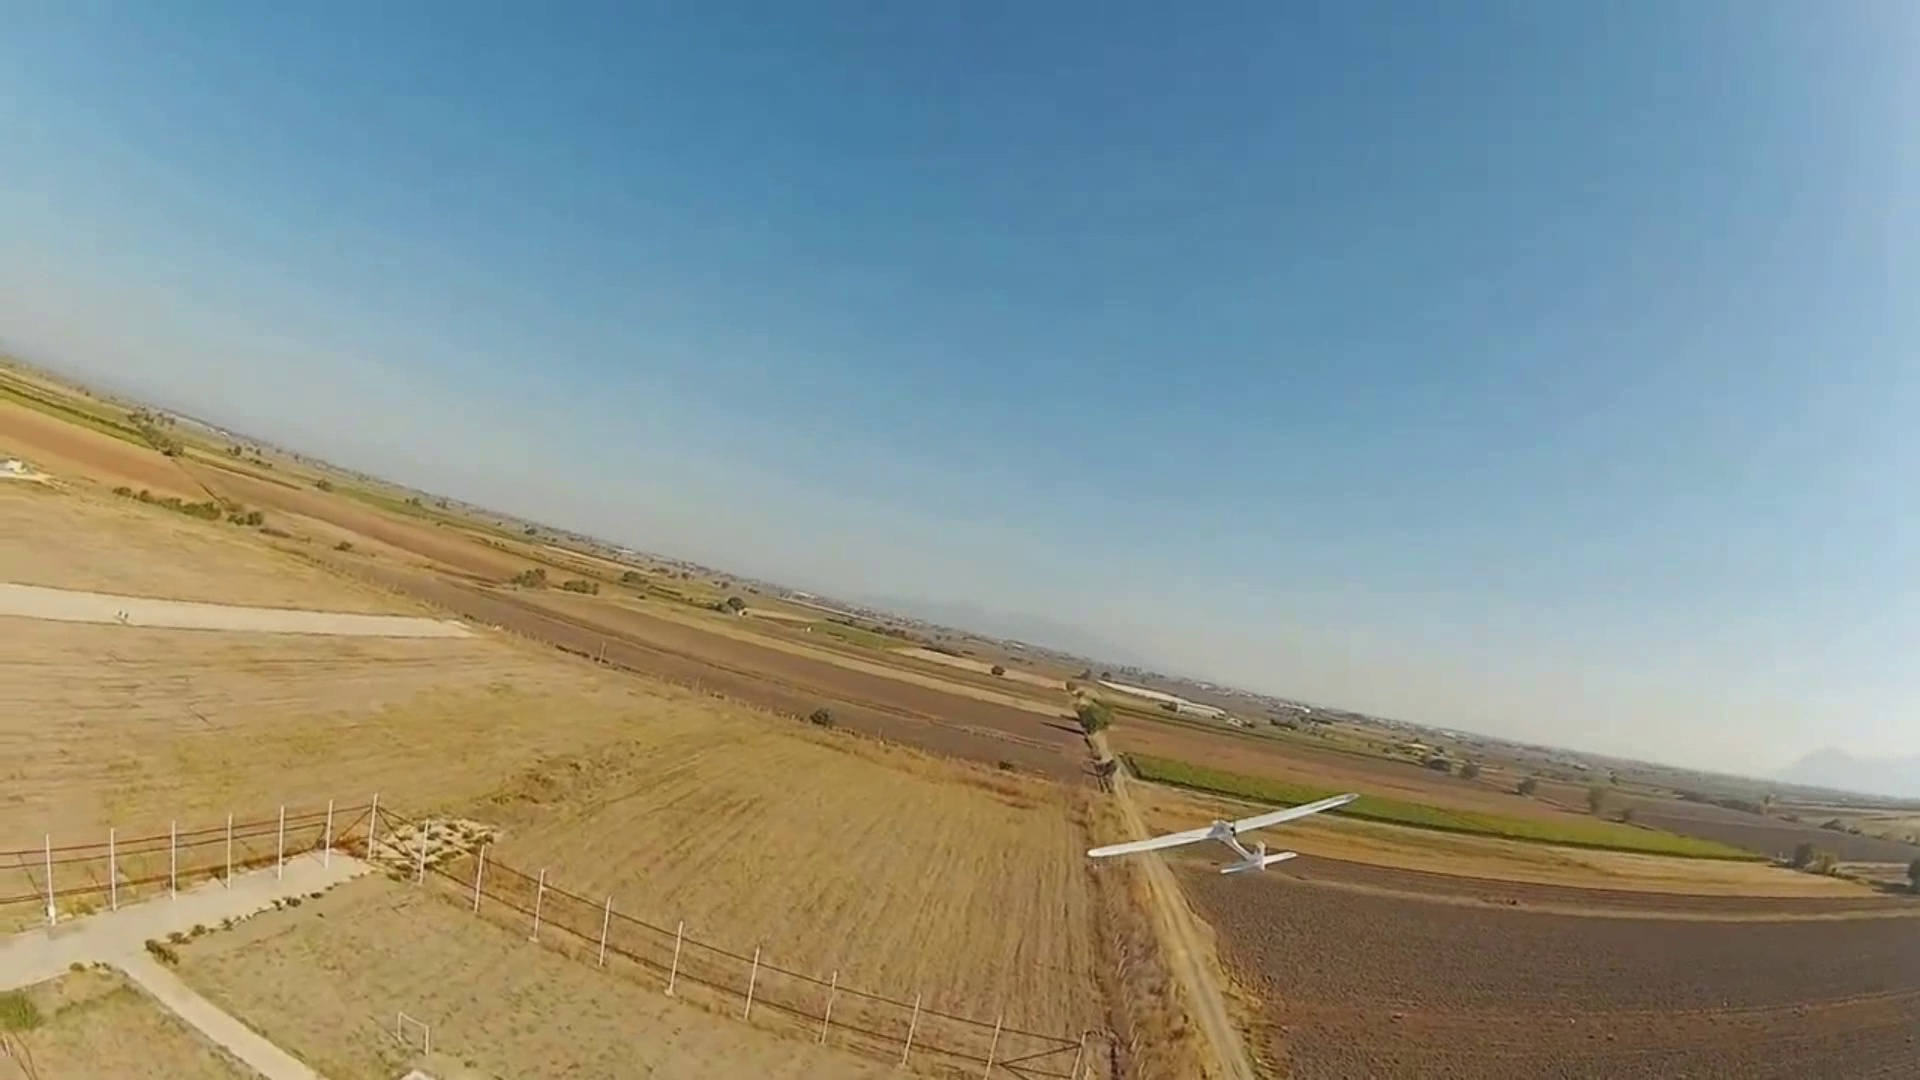airplane: (1087, 791, 1358, 877)
